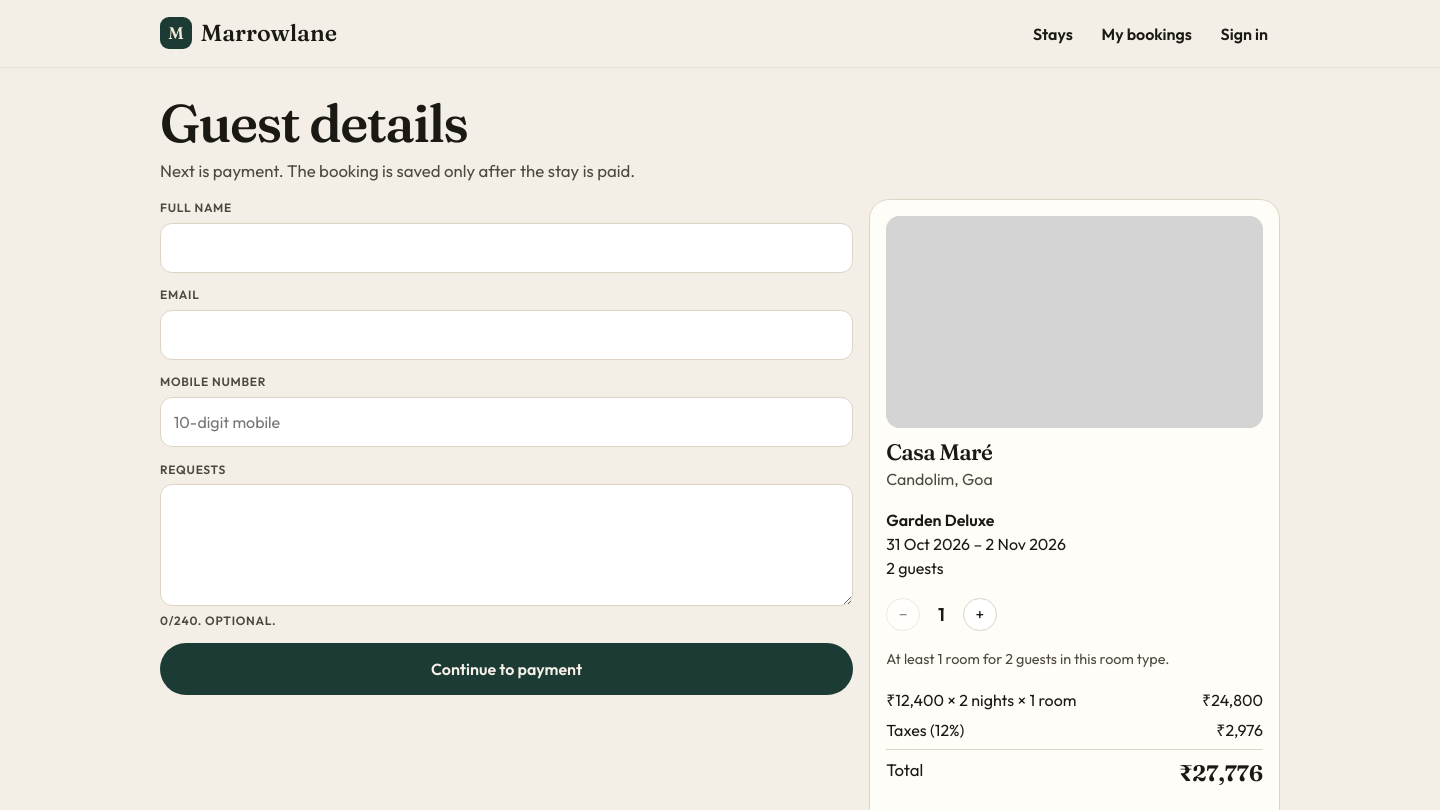
Scenario: blocks an incomplete guest form
This screenshot has width=1440, height=810.
Click the button "Continue to payment" at (507,669), box [160,643,853,695]
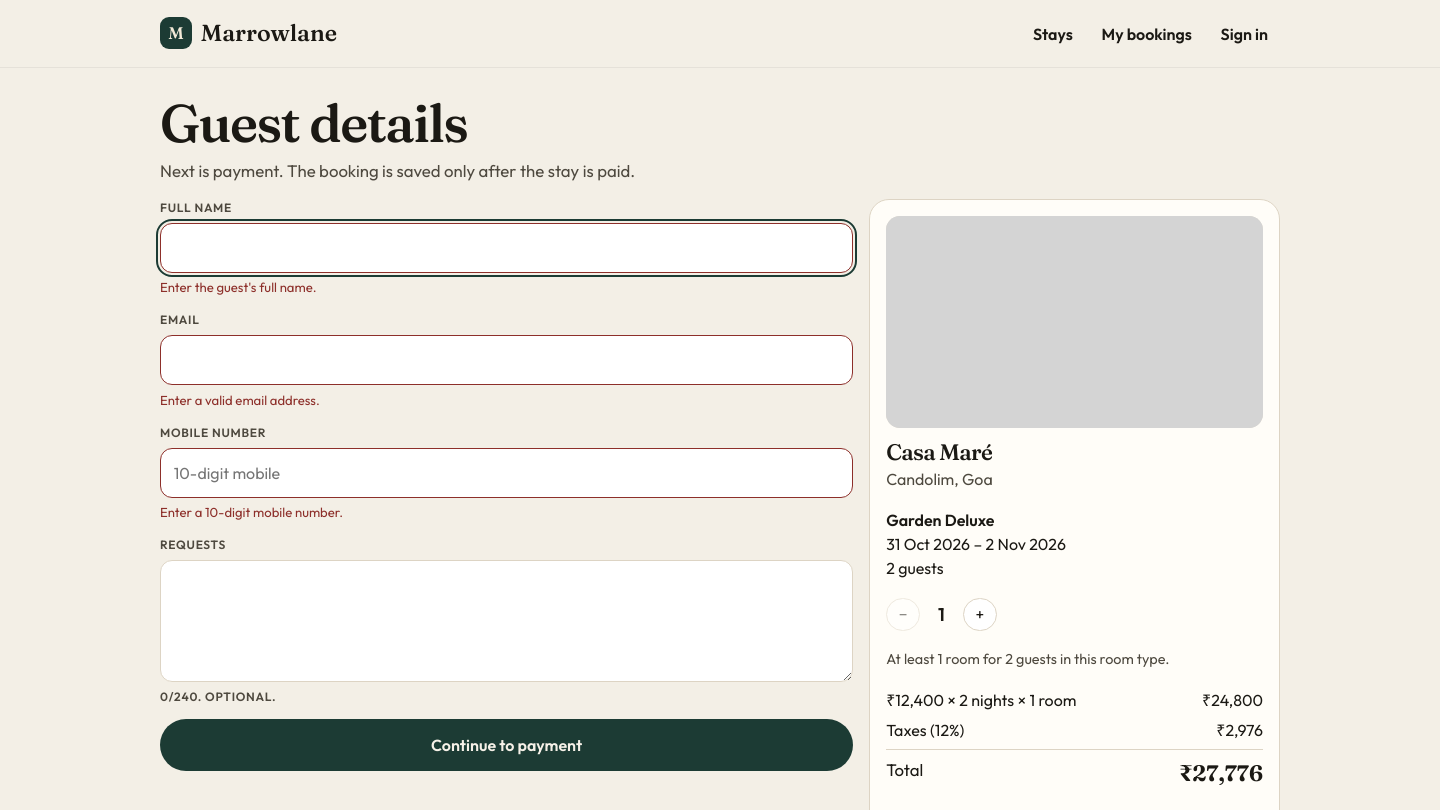
Result: the text "Enter the guest's full name." is shown at [160,279,316,295]
Result: the text "Enter a valid email address." is shown at [160,392,320,408]
Result: the text "Enter a 10-digit mobile number." is shown at [160,504,343,520]
